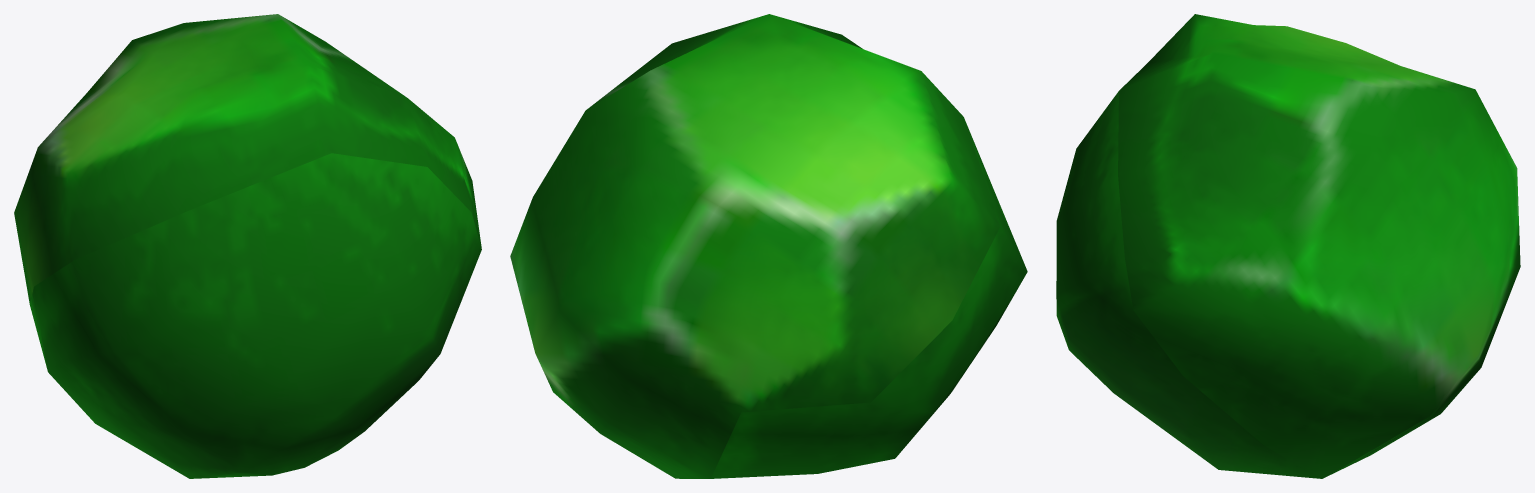
The model's file is hd_xiaoyouxi_lvbaoshi.glb.
The picture shows the model from 3 angles, left to right: view 1: azimuth 30°, elevation 25°; view 2: azimuth 150°, elevation 25°; view 3: azimuth 270°, elevation 25°; orthographic projection. The views are drawn at different scales.
Visible parts, largest first — view 1: xiaoyouxi_baoshi_f; view 2: xiaoyouxi_baoshi_f; view 3: xiaoyouxi_baoshi_f.
Boxes of the visible parts, x1,y1,x2,y2 form: xiaoyouxi_baoshi_f: (14, 14, 481, 478); xiaoyouxi_baoshi_f: (510, 14, 1027, 478); xiaoyouxi_baoshi_f: (1056, 14, 1520, 478).
Bounding box in the file's own units: 0.2547 × 0.2423 × 0.2506.
1 material, 1 textured.
